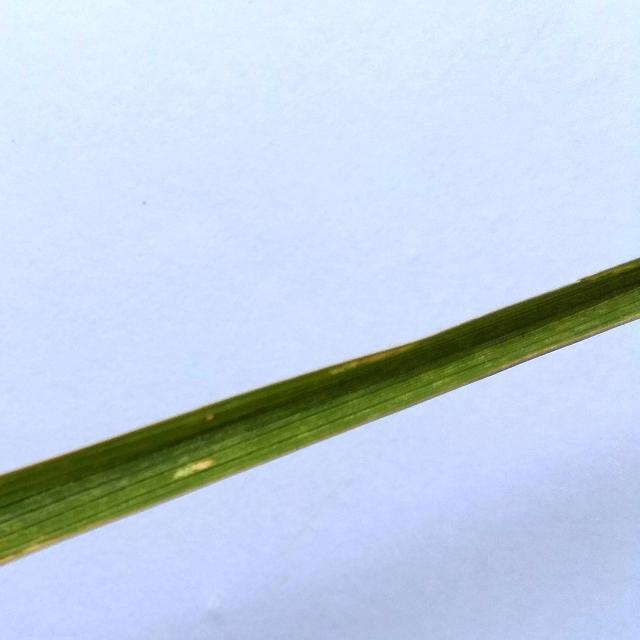Blast: (198, 410, 224, 426)
